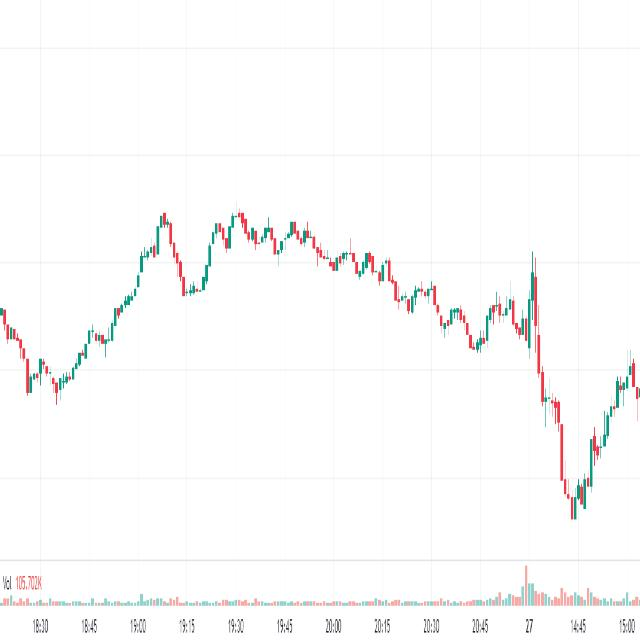Rounding-Bottom: (160, 204, 220, 313)
